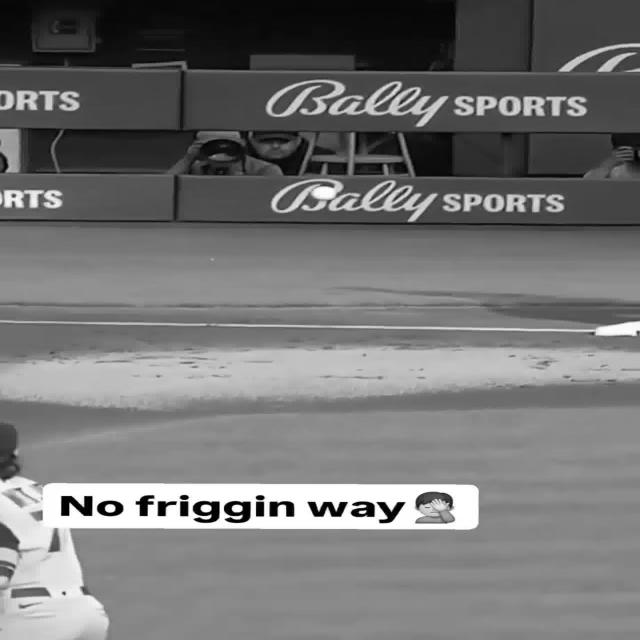base: (593, 321, 640, 336)
baseball: (311, 188, 338, 200)
